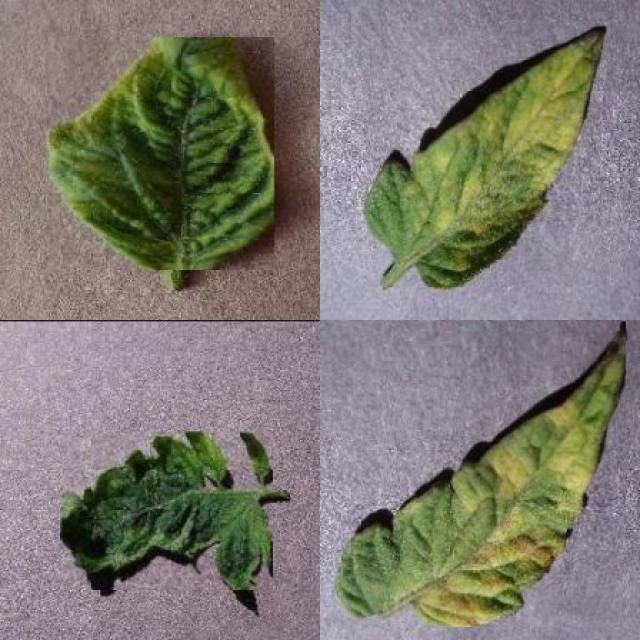Leaf Mold: (334, 322, 626, 627), (366, 26, 603, 287)
Mosaic Virus: (60, 431, 273, 590)
Yellow Leaf Curl Virus: (46, 37, 274, 270)
